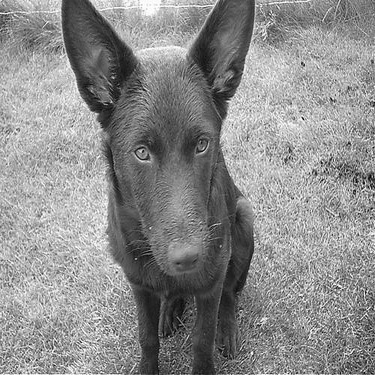dog: (46, 1, 266, 371)
